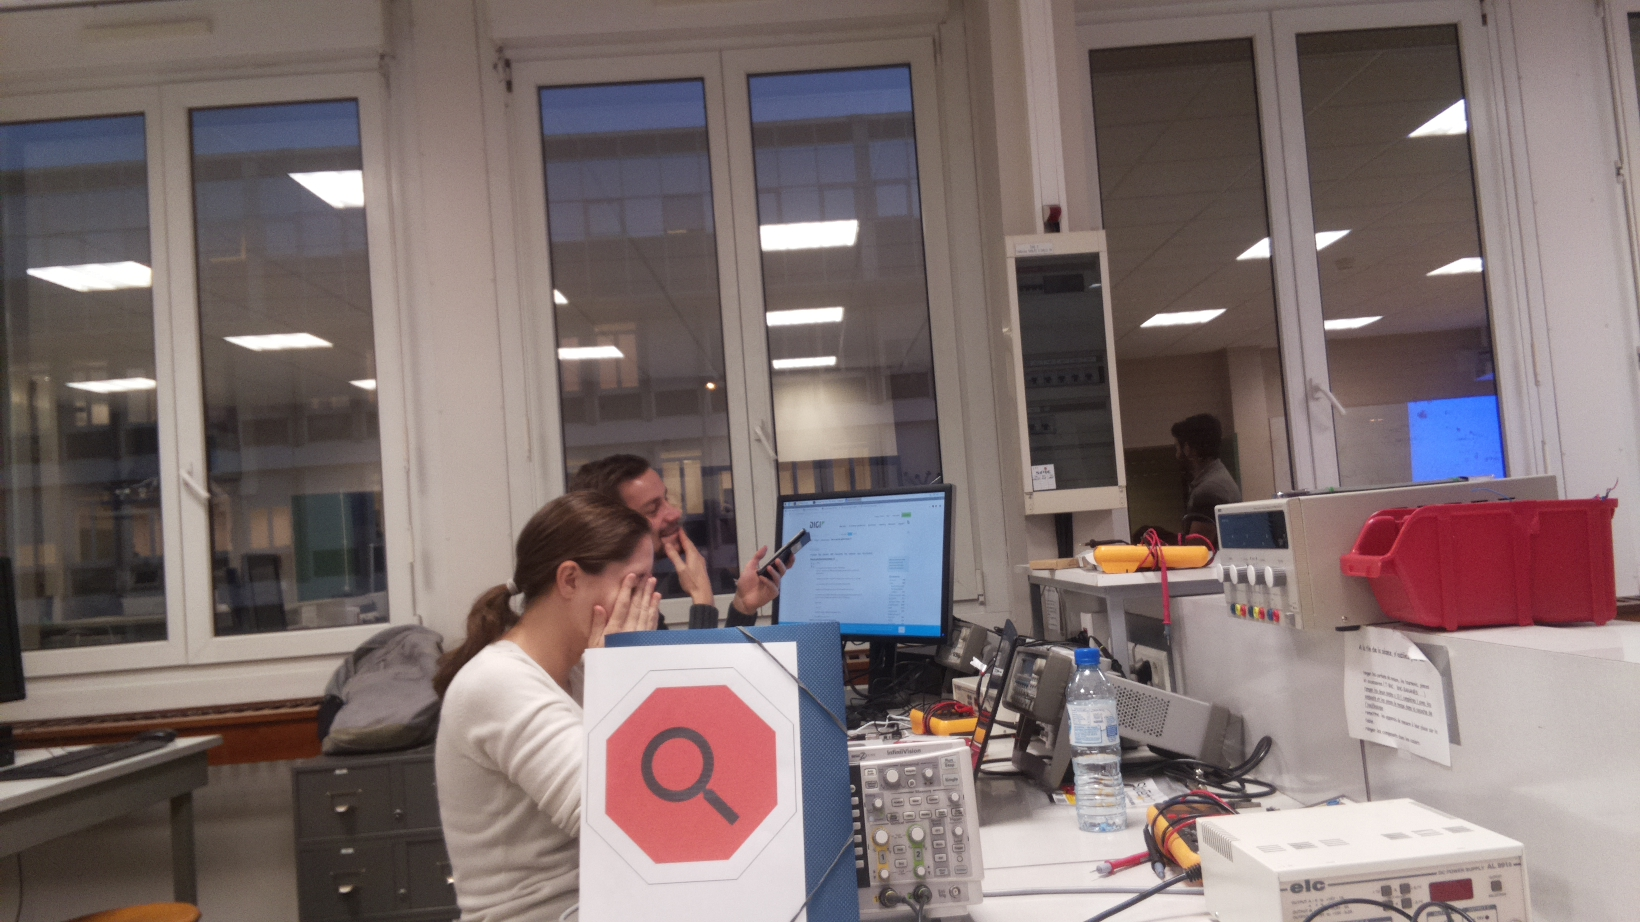search: (590, 668, 797, 881)
